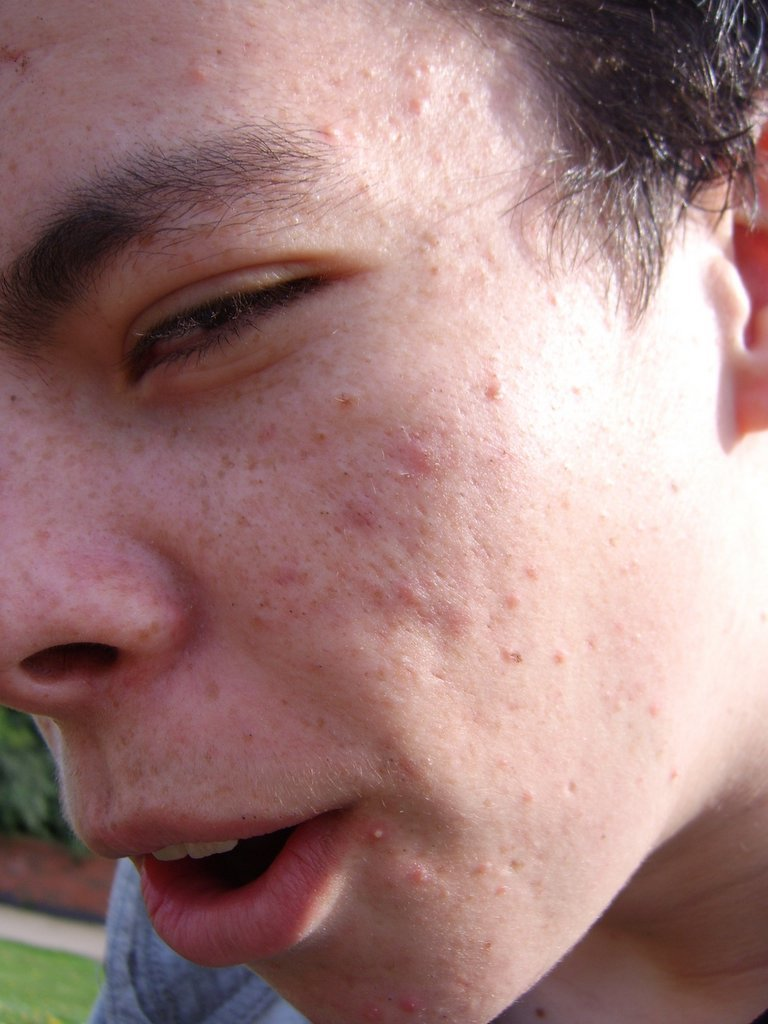Person: (0, 0, 767, 1023)
